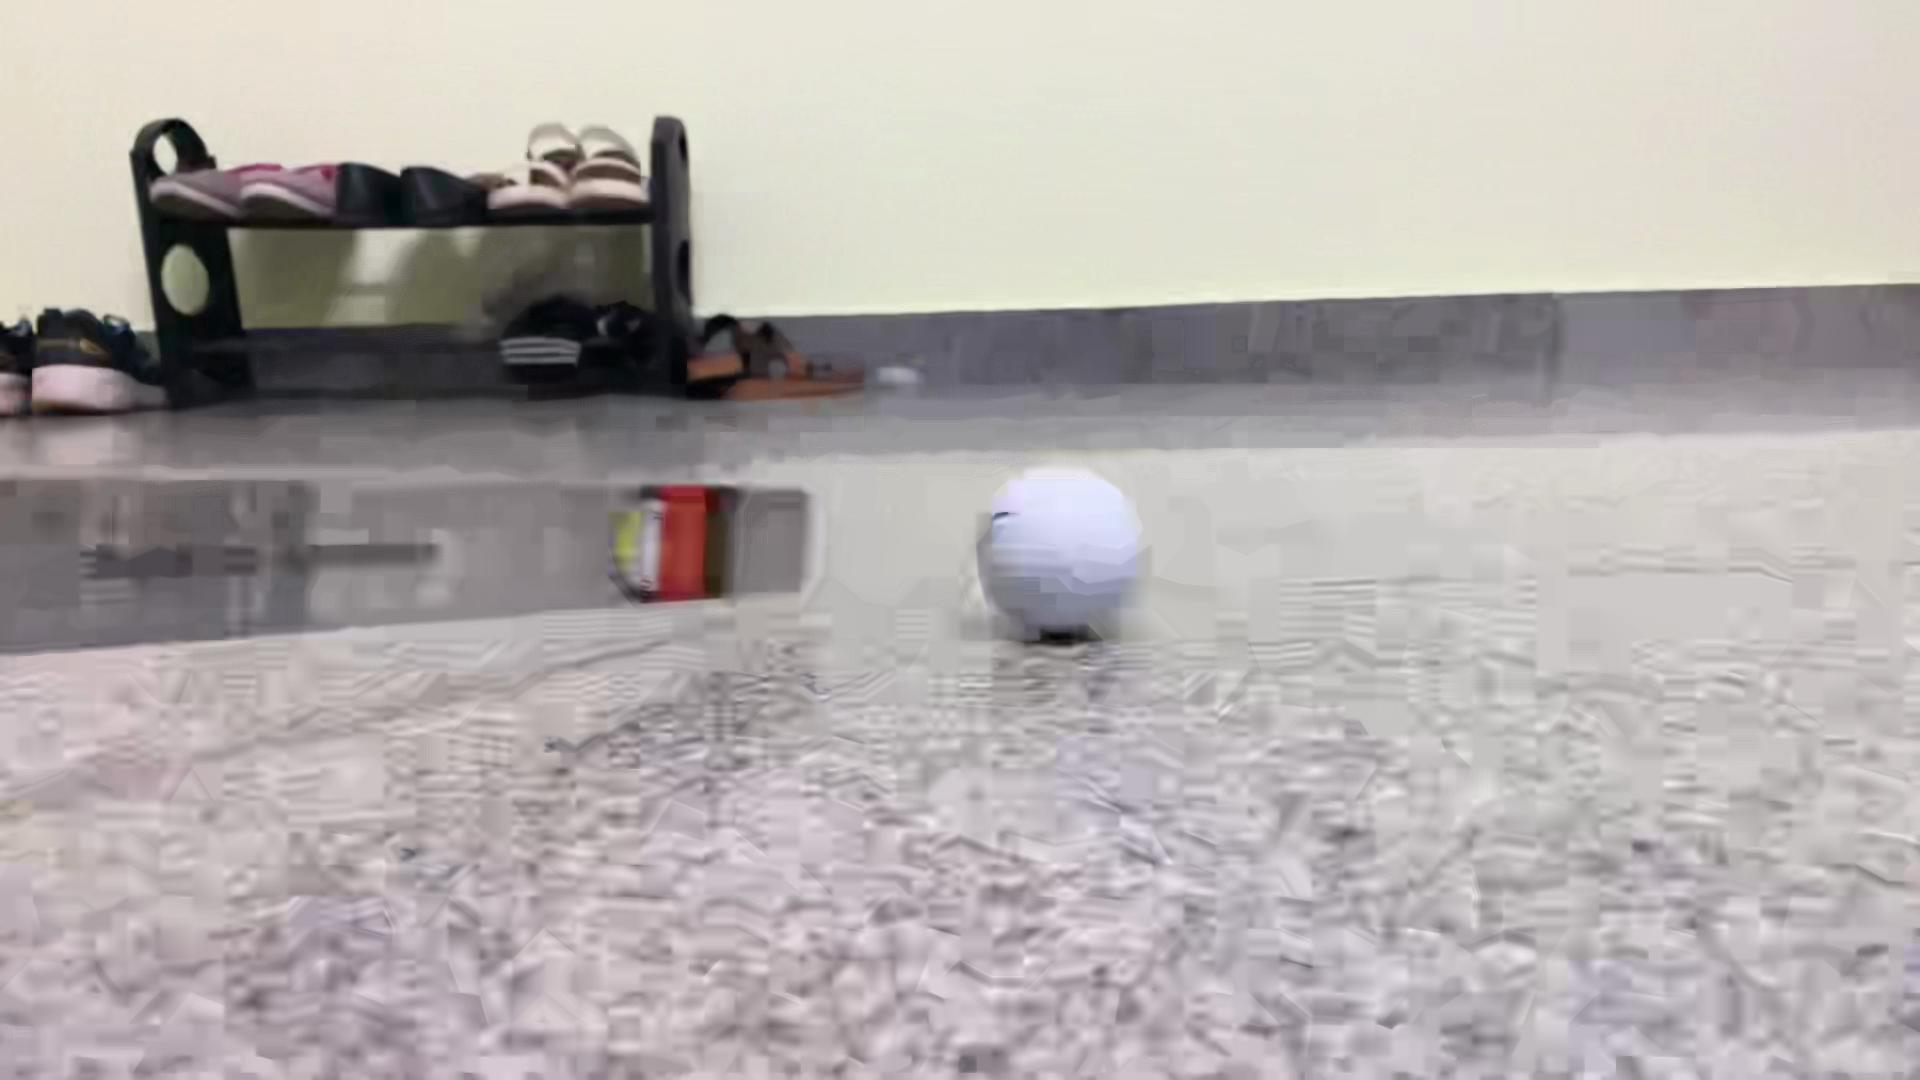golfball: (974, 468, 1148, 637)
